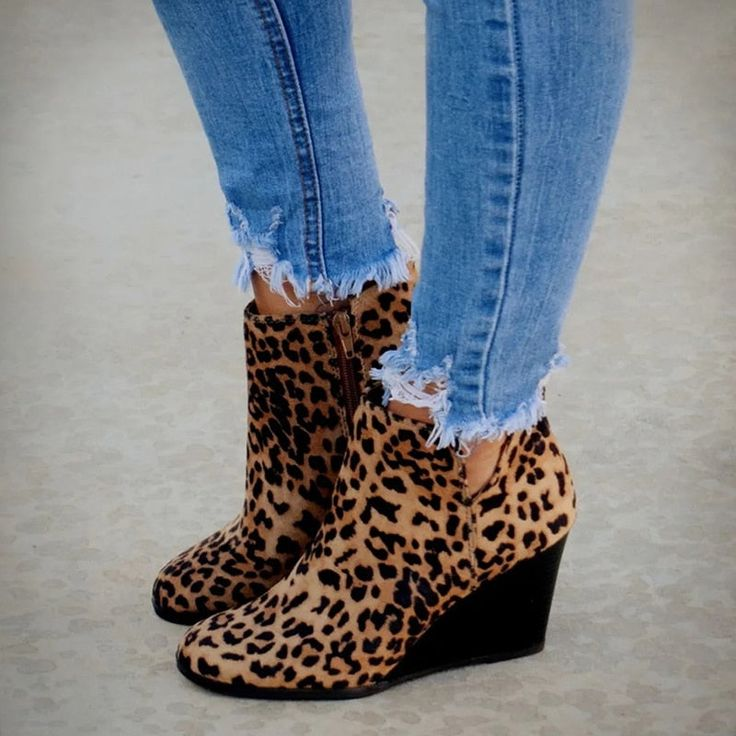gamuza: (154, 267, 578, 688)
